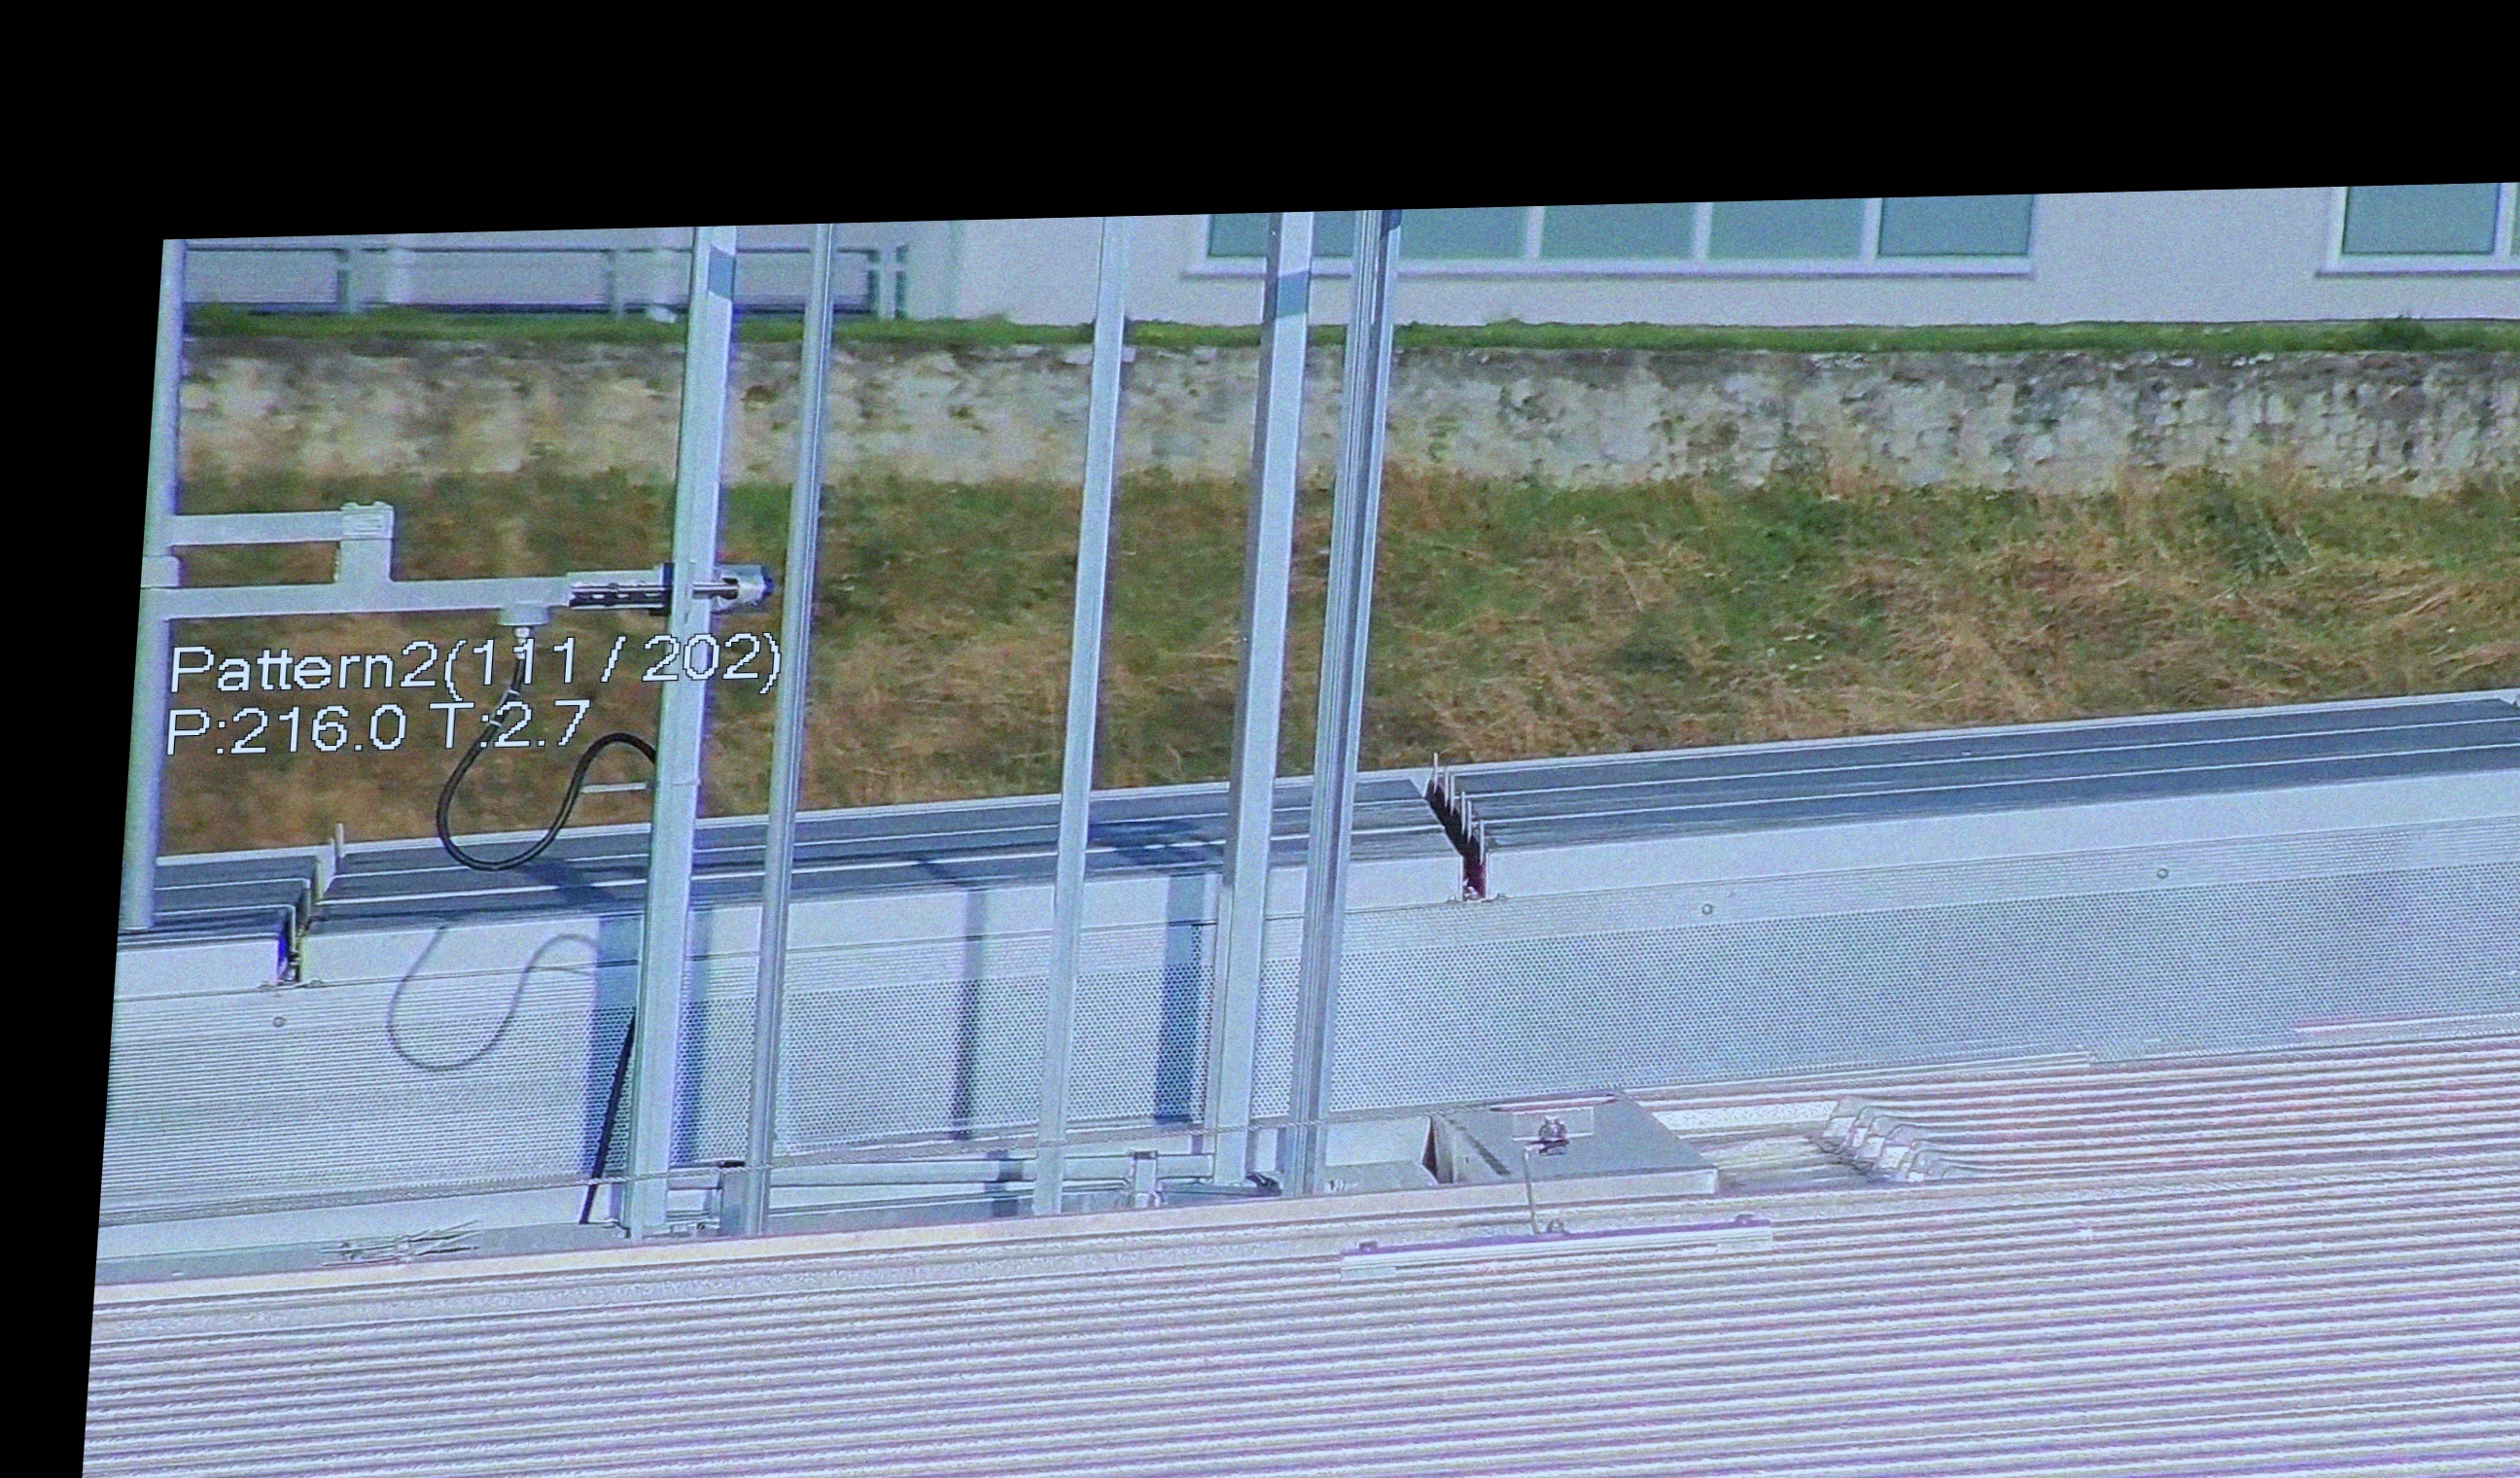Other: (1386, 744, 1518, 904)
